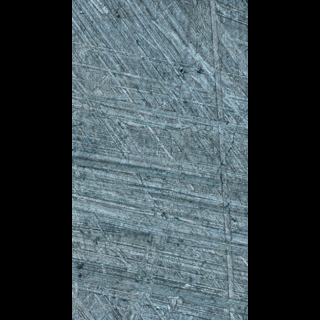d: (118, 0, 210, 319), (72, 88, 248, 162), (205, 0, 243, 320)
